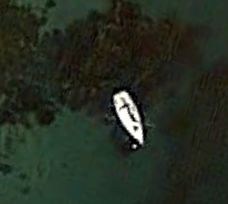boat: (112, 90, 146, 148)
